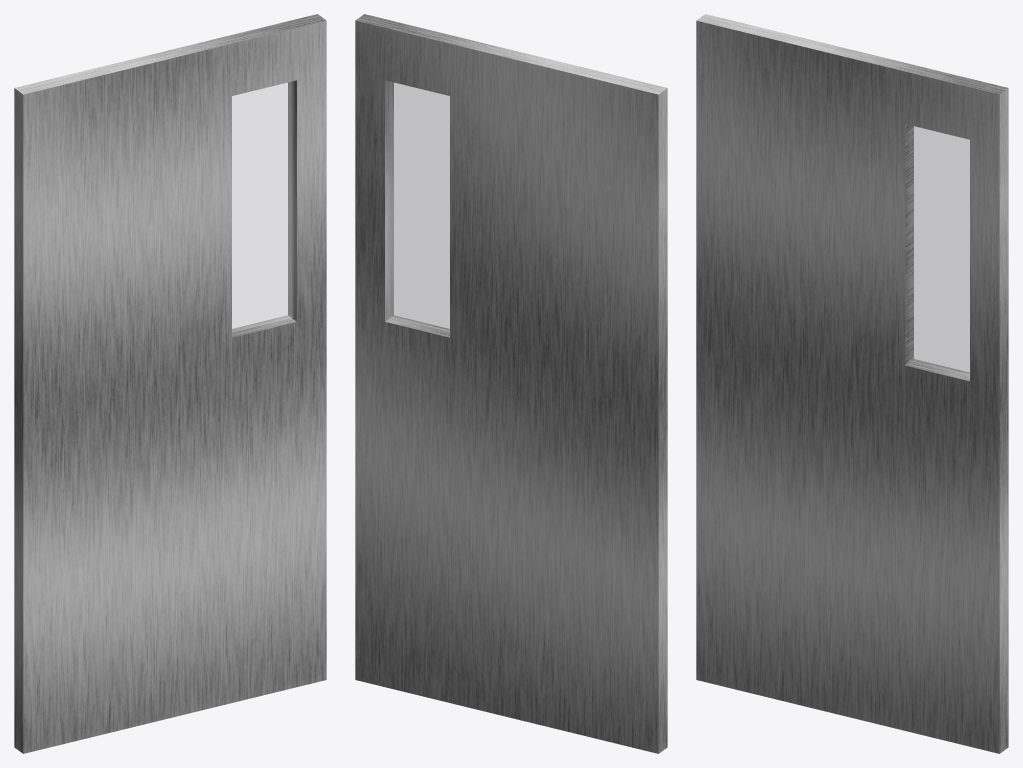
File: Door.fbx
3 views of the same model, side by side, from view 1: azimuth 30°, elevation 25°; view 2: azimuth 150°, elevation 25°; view 3: azimuth 330°, elevation 25° (orthographic).
Visible parts, largest first — view 1: Door, Window; view 2: Door, Window; view 3: Door, Window.
Part boxes in pixels (x1,y1,x2,y2): Door: (14, 14, 326, 753); Window: (232, 81, 293, 332); Door: (355, 14, 667, 753); Window: (389, 81, 449, 331); Door: (696, 14, 1008, 753); Window: (908, 125, 969, 375).
Size of the model in its own units: 130 by 270 by 6.7.
2 materials, 1 textured.
